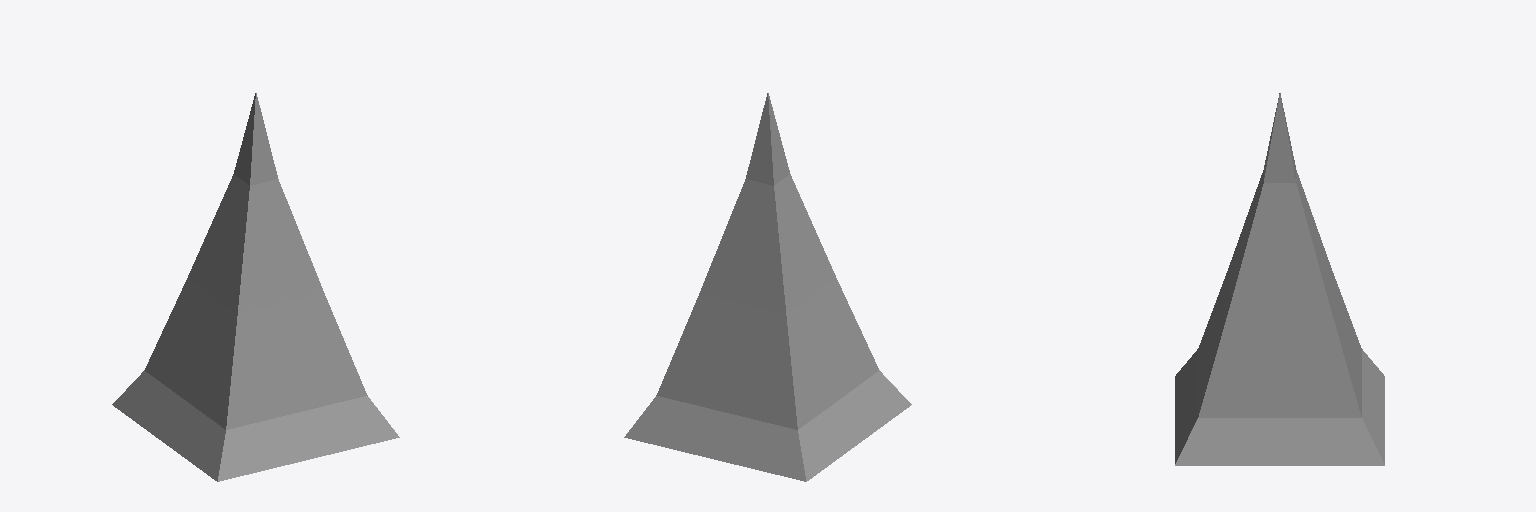
The model's file is spire1.obj.
3 renders of one model, left to right at view 1: azimuth 30°, elevation 25°; view 2: azimuth 150°, elevation 25°; view 3: azimuth 270°, elevation 25°, orthographic.
Parts seen in each view (by area): view 1: Cube; view 2: Cube; view 3: Cube.
Boxes of the visible parts, box(x1,y1,x2,y2) form: Cube: box(112, 93, 399, 481); Cube: box(624, 93, 911, 481); Cube: box(1175, 93, 1384, 465).
Size of the model in its own units: 2 by 3.46 by 2.